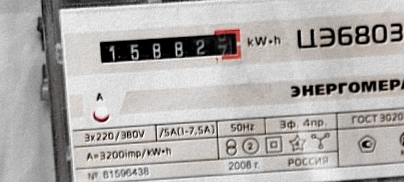1: (106, 42, 117, 61)
2: (194, 37, 206, 55)
5: (128, 42, 140, 60)
7: (216, 43, 228, 54)
8: (149, 40, 162, 58), (172, 39, 184, 57)
screen: (91, 24, 247, 71)
